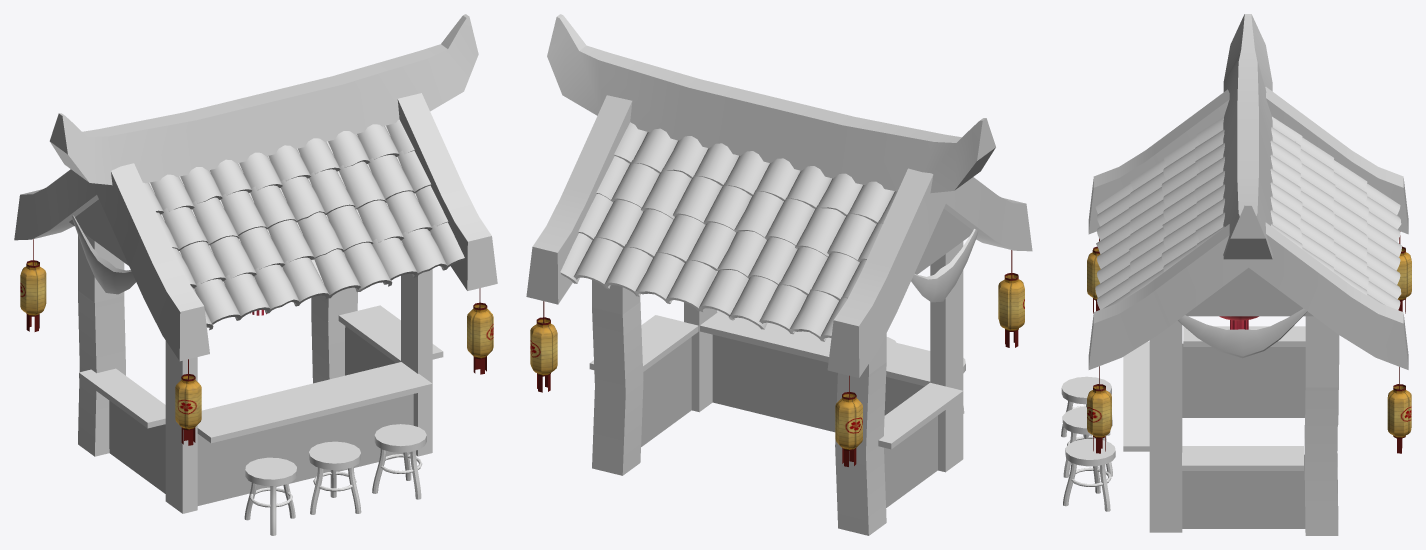
File: SM_Store_03.fbx
3 renders of one model, left to right at view 1: azimuth 30°, elevation 25°; view 2: azimuth 150°, elevation 25°; view 3: azimuth 270°, elevation 25°, orthographic. The views are drawn at different scales.
Visible parts, largest first — view 1: SM_Store_03; view 2: SM_Store_03; view 3: SM_Store_03.
Part boxes in pixels (bbox=[...]): SM_Store_03: bbox=[14, 14, 497, 535]; SM_Store_03: bbox=[526, 14, 1032, 535]; SM_Store_03: bbox=[1061, 14, 1411, 535].
Bounding box in the file's own units: 559 × 493 × 428.
